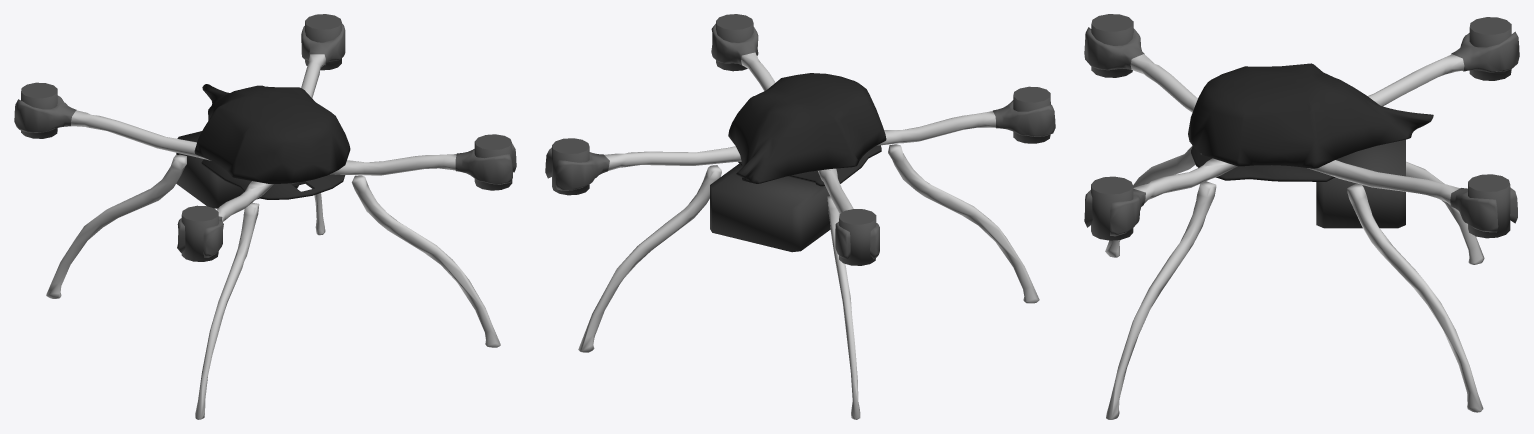
Rendered from navi-drone-hipoly.dae.
3 views of the same model, side by side, from view 1: azimuth 30°, elevation 25°; view 2: azimuth 150°, elevation 25°; view 3: azimuth 270°, elevation 25° (orthographic). The views are drawn at different scales.
Parts seen in each view (by area): view 1: SOLID; view 2: SOLID; view 3: SOLID.
Boxes of the visible parts, bbox=[...] form: SOLID: bbox=[14, 14, 516, 419]; SOLID: bbox=[545, 14, 1055, 419]; SOLID: bbox=[1084, 14, 1519, 419].
Size of the model in its own units: 0.5649 by 0.5551 by 0.3623.
Materials: 1 (1 with a texture image).
